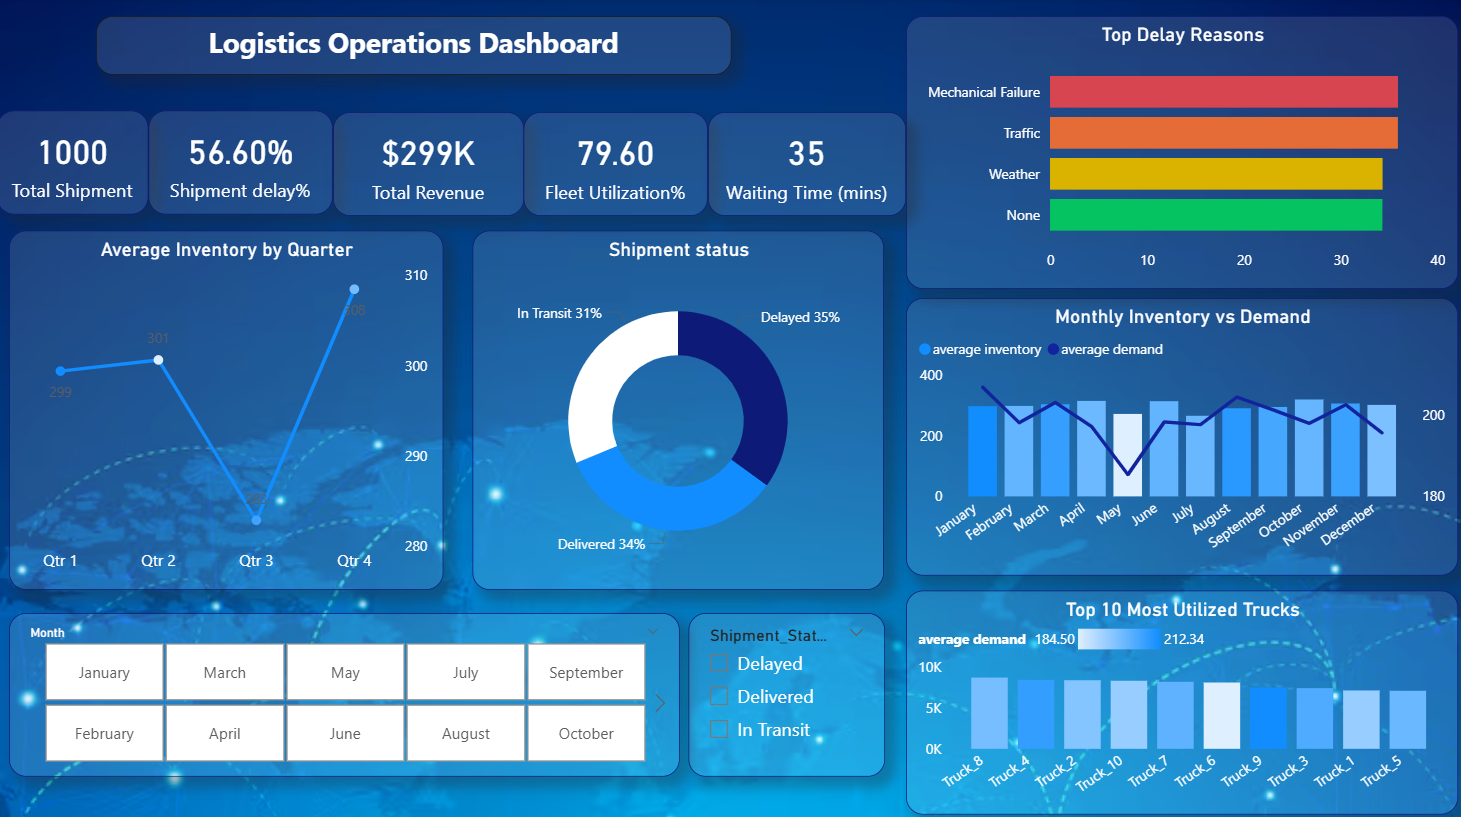

What the dashboard file says about the page in this screenshot:
{"tool":"powerbi","page":{"name":"Logistics Dashboard","canvas":[1280,720],"ordinal":0},"visuals":[{"type":"textbox","box":[86.3,15.1,554.2,51.5],"z":0},{"type":"lineClusteredColumnComboChart","title":"Monthly Inventory vs Demand","fields":{"Y":["smart_logistics_dataset.average inventory"],"Y2":["smart_logistics_dataset.average demand"],"Category":["smart_logistics_dataset.Date.Variation.Date Hierarchy.Month"]},"box":[791.9,262,481.5,242.3],"z":1000},{"type":"barChart","title":"Top Delay Reasons","fields":{"Category":["smart_logistics_dataset.Logistics_Delay_Reason"],"Y":["smart_logistics_dataset.average waiting time"]},"box":[791.9,15.1,481.5,237.7],"z":2000},{"type":"donutChart","title":"Shipment status","fields":{"Category":["smart_logistics_dataset.Shipment_Status"],"Y":["smart_logistics_dataset.count shipment status"]},"box":[414.9,202.9,358.9,313.4],"z":3000},{"type":"clusteredColumnChart","title":"Top 10 Most Utilized Trucks","fields":{"Category":["smart_logistics_dataset.Asset_ID"],"Y":["Sum(smart_logistics_dataset.Asset_Utilization)"]},"box":[791.9,516.3,481.5,195.3],"z":4000},{"type":"lineChart","title":"Average Inventory by Quarter","fields":{"Category":["smart_logistics_dataset.Date.Variation.Date Hierarchy.Quarter","smart_logistics_dataset.Date.Variation.Date Hierarchy.Month"],"Y2":["smart_logistics_dataset.average inventory"]},"box":[10.6,202.9,378.6,313.4],"z":5000},{"type":"card","fields":{"Values":["smart_logistics_dataset.total shipment"]},"box":[0,98.4,131.7,90.9],"z":6000},{"type":"card","fields":{"Values":["smart_logistics_dataset.delayed %"]},"box":[131.7,98.4,160.5,90.9],"z":7000},{"type":"card","fields":{"Values":["smart_logistics_dataset.total revenue"]},"box":[292.2,99.9,166.6,90.9],"z":9000},{"type":"slicer","fields":{"Values":["smart_logistics_dataset.Date.Variation.Date Hierarchy.Month"]},"box":[10.6,536,584.5,142.3],"z":10000},{"type":"slicer","fields":{"Values":["smart_logistics_dataset.Shipment_Status"]},"box":[602.7,536,171.1,142.3],"z":11000},{"type":"card","fields":{"Values":["CALANDER.Fleet Utilization%"]},"box":[458.8,99.9,160.5,90.9],"z":11001},{"type":"card","fields":{"Values":["smart_logistics_dataset.average waiting time"]},"box":[619.3,99.9,172.6,90.9],"z":11002}]}

Visuals, with their boxes in screenshot pixels (x1, y1, x2, y2), scaled from the page's 1280x720 canvas onto the 1461x817 screenshot:
textbox: <bbox>99, 17, 731, 76</bbox>
"Monthly Inventory vs Demand" lineClusteredColumnComboChart: <bbox>904, 297, 1453, 572</bbox>
"Top Delay Reasons" barChart: <bbox>904, 17, 1453, 287</bbox>
"Shipment status" donutChart: <bbox>474, 230, 883, 586</bbox>
"Top 10 Most Utilized Trucks" clusteredColumnChart: <bbox>904, 586, 1453, 807</bbox>
"Average Inventory by Quarter" lineChart: <bbox>12, 230, 444, 586</bbox>
card - smart_logistics_dataset.total shipment: <bbox>0, 112, 150, 215</bbox>
card - smart_logistics_dataset.delayed %: <bbox>150, 112, 334, 215</bbox>
card - smart_logistics_dataset.total revenue: <bbox>334, 113, 524, 217</bbox>
slicer - smart_logistics_dataset.Date.Variation.Date Hierarchy.Month: <bbox>12, 608, 679, 770</bbox>
slicer - smart_logistics_dataset.Shipment_Status: <bbox>688, 608, 883, 770</bbox>
card - CALANDER.Fleet Utilization%: <bbox>524, 113, 707, 217</bbox>
card - smart_logistics_dataset.average waiting time: <bbox>707, 113, 904, 217</bbox>
